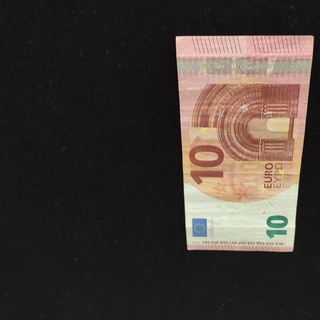10EUROFront: (175, 34, 314, 254)
